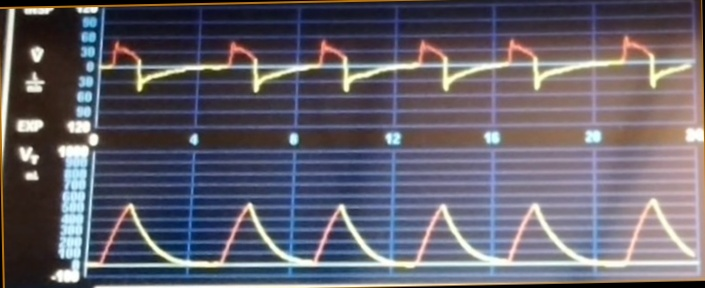Normal Flow: (104, 25, 691, 115)
Normal Volume: (92, 190, 696, 273)
